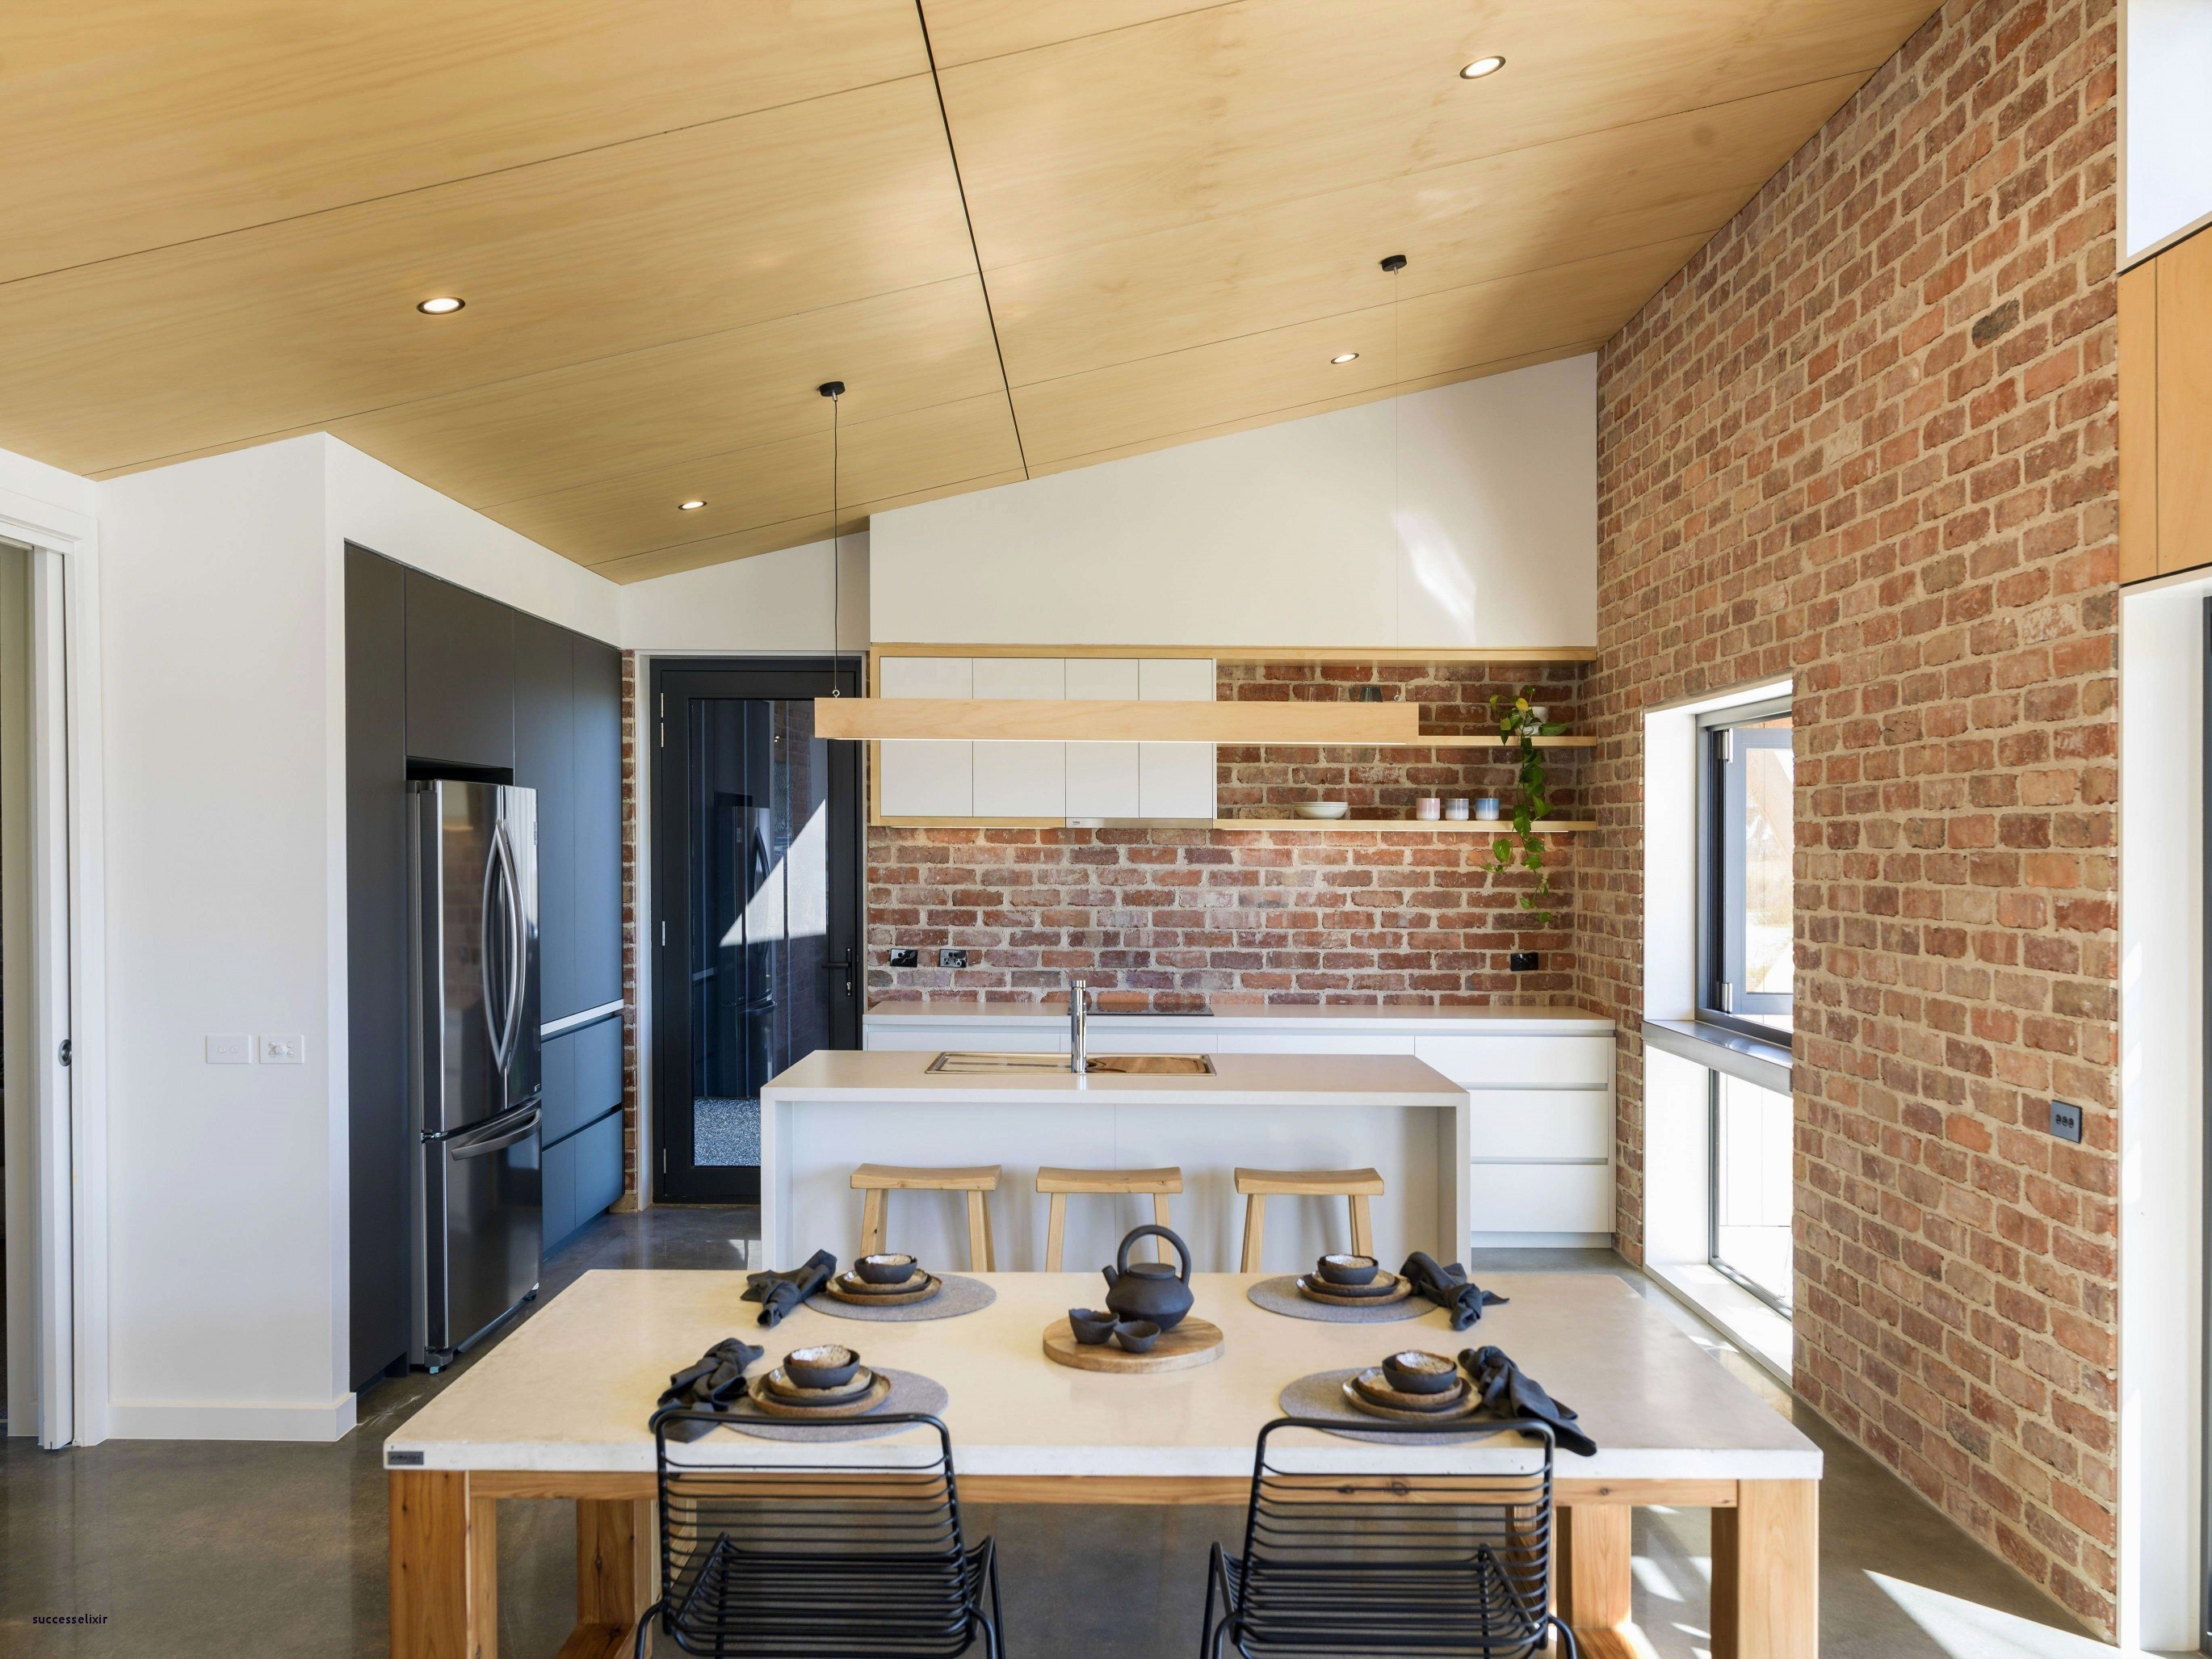Kulkas: (411, 777, 554, 1337)
Meja: (380, 1263, 1825, 1659), (751, 1049, 1477, 1262)
Tanaman: (1479, 695, 1566, 885)
gelas: (1475, 795, 1507, 829), (1413, 795, 1442, 826), (1446, 793, 1475, 824)
kursi: (629, 1396, 1022, 1659), (1190, 1406, 1590, 1659), (1230, 1150, 1386, 1263), (1029, 1155, 1190, 1262), (845, 1157, 1008, 1260)
